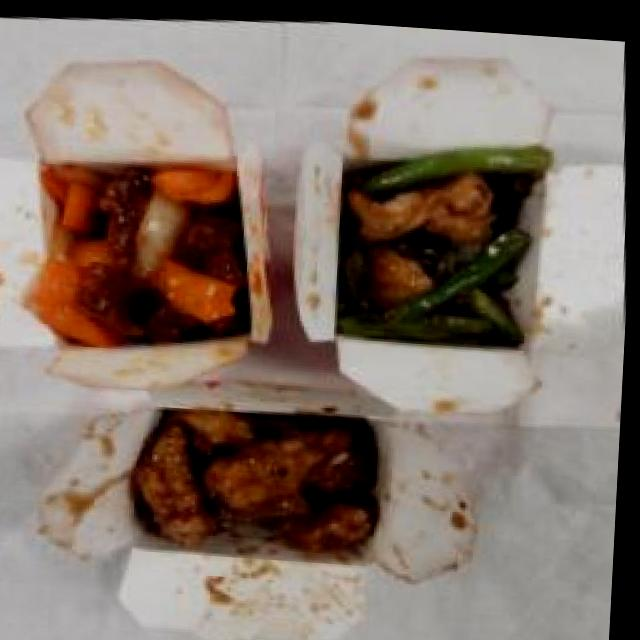Beijing Beef: (29, 145, 262, 362)
String Bean Chicken Breast: (324, 123, 561, 358)
The Original Orange Chicken: (136, 391, 395, 560)
